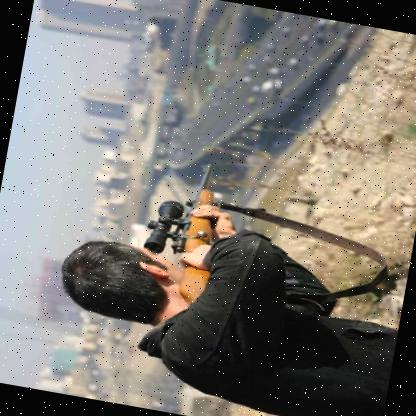rifle: (130, 147, 243, 314)
